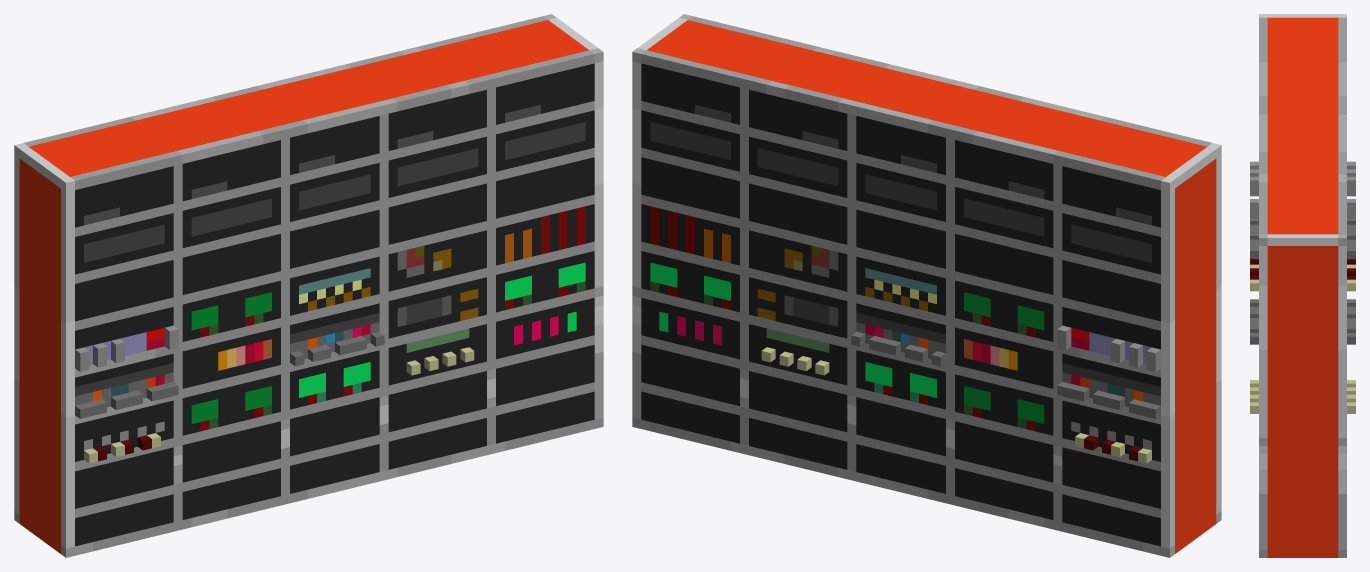
The model's file is Enginering Wall 3.obj.
3 views of the same model, side by side, from view 1: azimuth 30°, elevation 25°; view 2: azimuth 150°, elevation 25°; view 3: azimuth 270°, elevation 25° (orthographic). The views are drawn at different scales.
Size of the model in its own units: 60 by 40 by 12.
1 material, 1 textured.
